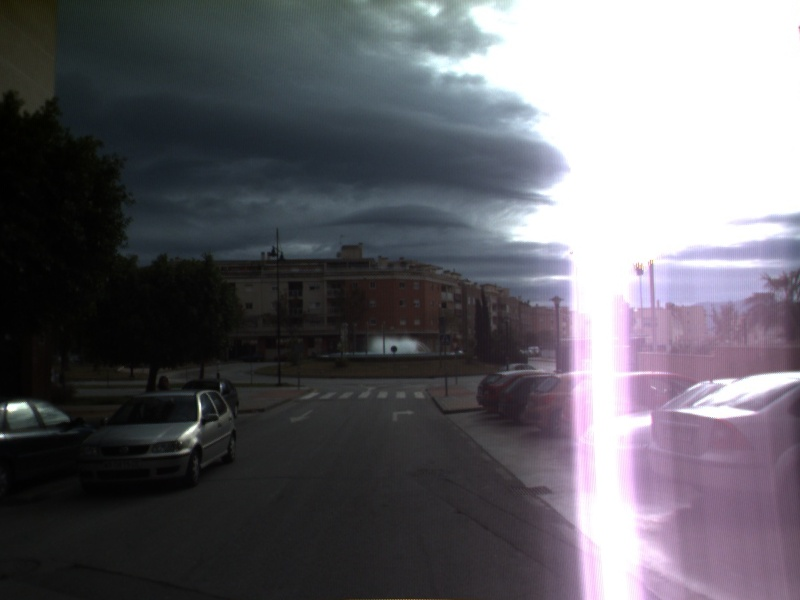RIGHT: (390, 407, 417, 423)
